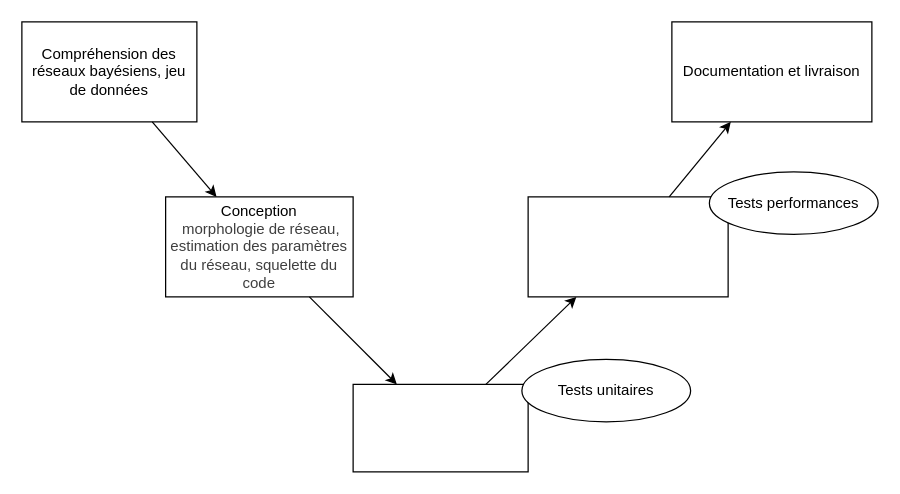
This 900x494 diagram has some shape labels left out. Each missing label, with the box of its shape:
Dévelopement du code en python. Réseaux + inférence: (352, 383, 528, 472)
Validation du modèle et mesures de performances: (527, 196, 728, 297)
